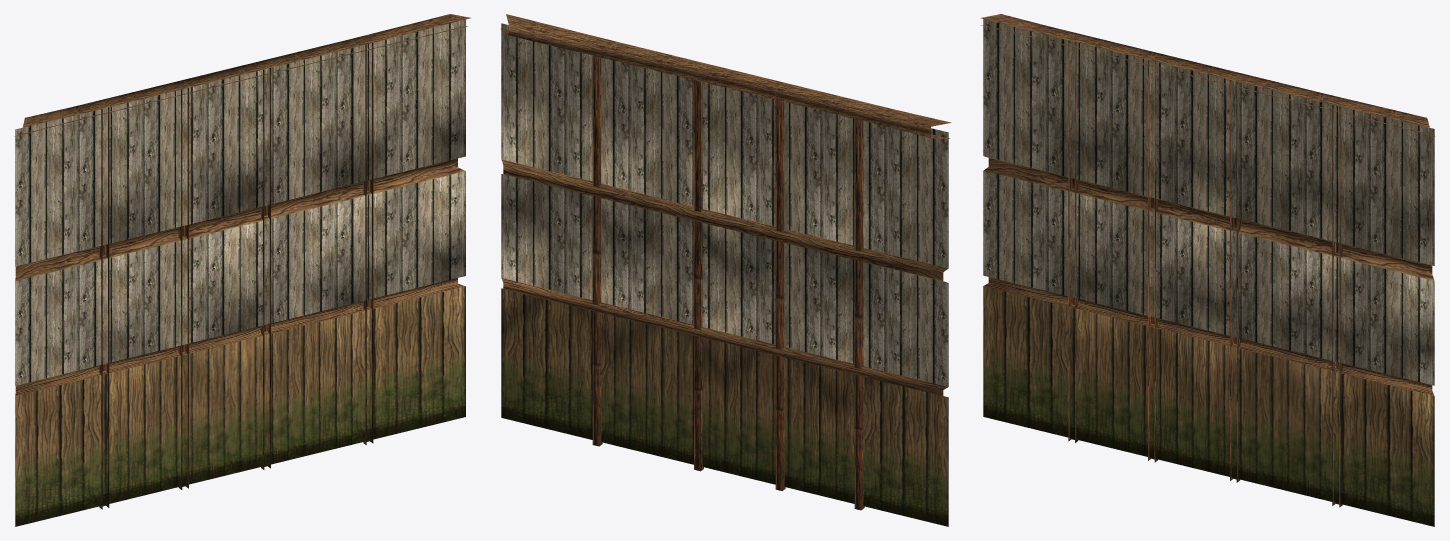
Rendered from LAKETOWN_WAREHOUSE3_PS_WH3_SIDEWALL7746__GX.fbx.
3 views of the same model, side by side, from view 1: azimuth 30°, elevation 25°; view 2: azimuth 150°, elevation 25°; view 3: azimuth 330°, elevation 25° (orthographic).
Parts seen in each view (by area): view 1: LAKETOWN_WAREHOUSE3_PS_WH3_SIDEWALL7746__GX; view 2: LAKETOWN_WAREHOUSE3_PS_WH3_SIDEWALL7746__GX; view 3: LAKETOWN_WAREHOUSE3_PS_WH3_SIDEWALL7746__GX.
Boxes of the visible parts, bbox=[...] form: LAKETOWN_WAREHOUSE3_PS_WH3_SIDEWALL7746__GX: bbox=[14, 14, 470, 526]; LAKETOWN_WAREHOUSE3_PS_WH3_SIDEWALL7746__GX: bbox=[500, 14, 951, 526]; LAKETOWN_WAREHOUSE3_PS_WH3_SIDEWALL7746__GX: bbox=[980, 14, 1435, 526].
Size of the model in its own units: 160689 by 136952 by 5834.
6 materials, 6 textured.
